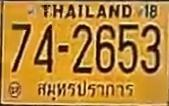2: (72, 24, 91, 73)
3: (140, 24, 160, 73)
4: (33, 24, 52, 72)
5: (117, 22, 138, 72)
6: (95, 24, 115, 72)
7: (11, 22, 30, 72)
SPK: (34, 77, 136, 104)
